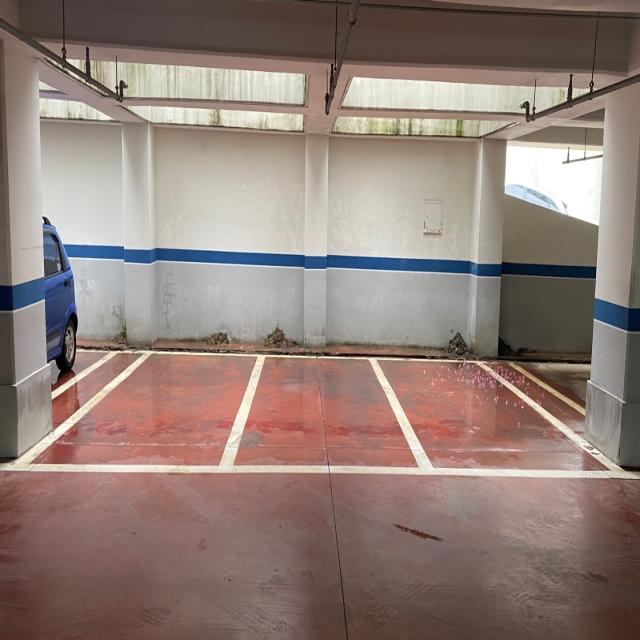empty: (5, 348, 266, 478), (368, 351, 631, 478), (219, 347, 438, 480)
